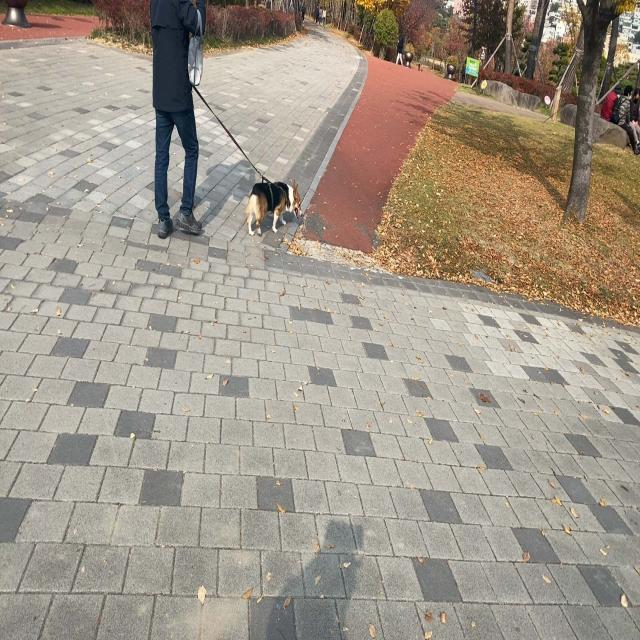Leashed_Dog: (180, 72, 304, 238)
